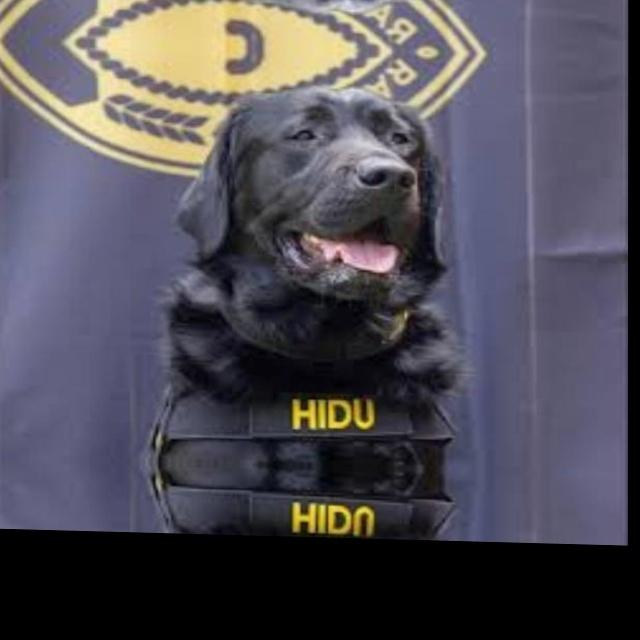dog: (163, 78, 447, 470), (162, 462, 446, 540), (163, 0, 447, 19)
